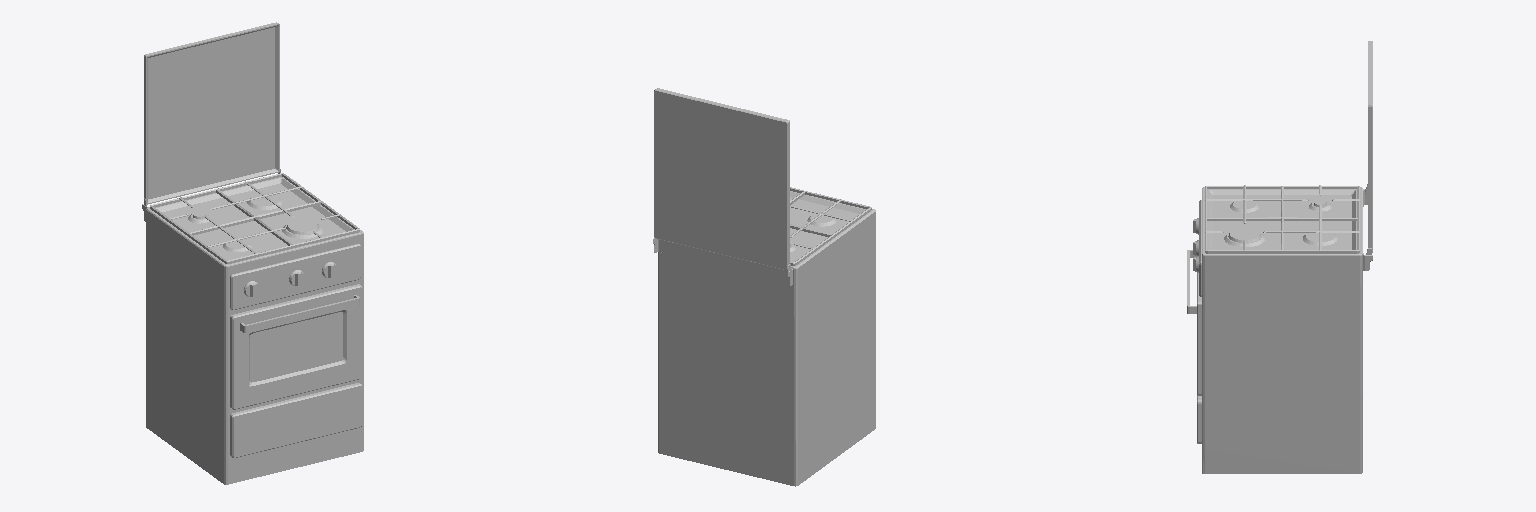
File: gasiniere.obj
3 renders of one model, left to right at view 1: azimuth 30°, elevation 25°; view 2: azimuth 150°, elevation 25°; view 3: azimuth 270°, elevation 25°, orthographic.
Parts seen in each view (by area): view 1: Aragaz_Mesh_Untitled.001; view 2: Aragaz_Mesh_Untitled.001; view 3: Aragaz_Mesh_Untitled.001.
Boxes of the visible parts, x1,y1,x2,y2 form: Aragaz_Mesh_Untitled.001: [142, 22, 363, 484]; Aragaz_Mesh_Untitled.001: [653, 88, 875, 486]; Aragaz_Mesh_Untitled.001: [1187, 41, 1372, 473].
Size of the model in its own units: 0.6014 by 1.51 by 0.6943.